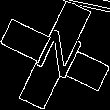N_SW: (26, 24, 84, 86)
